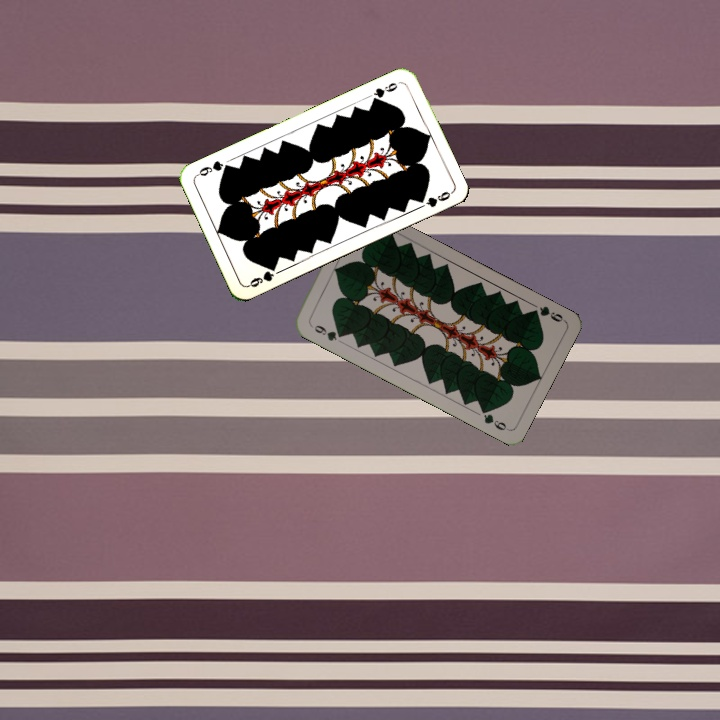G9: (244, 261, 279, 290), (306, 320, 346, 344), (368, 78, 403, 105), (526, 302, 567, 324)
